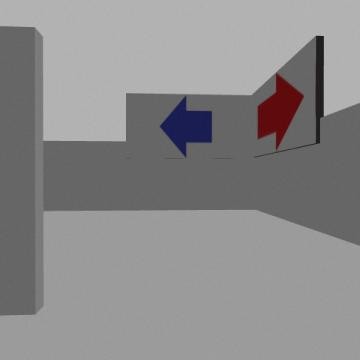blue_left: (160, 96, 212, 156)
red_right: (258, 74, 303, 149)
